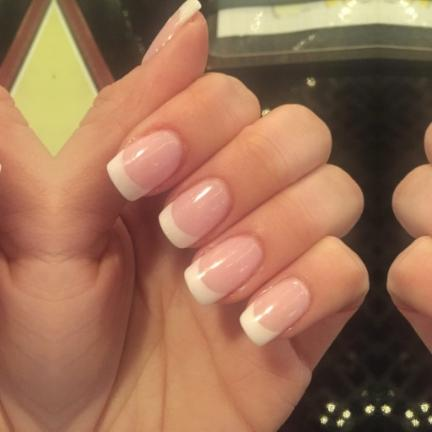Nail: (184, 235, 262, 306), (106, 131, 183, 201), (158, 179, 230, 249), (240, 278, 311, 346), (142, 0, 202, 63), (0, 163, 2, 173)
